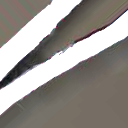crackTip: (1, 1, 128, 90)
